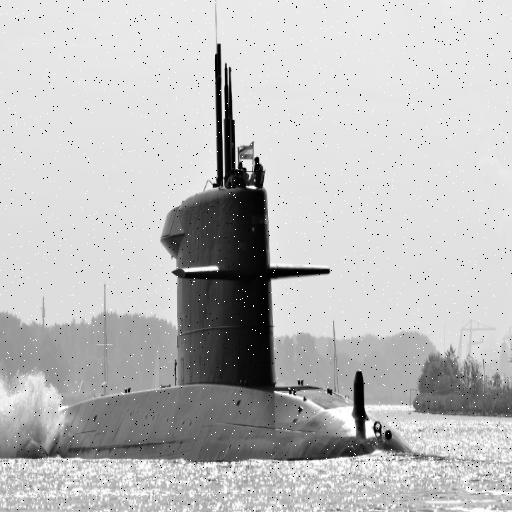submarine: (1, 47, 413, 460)
